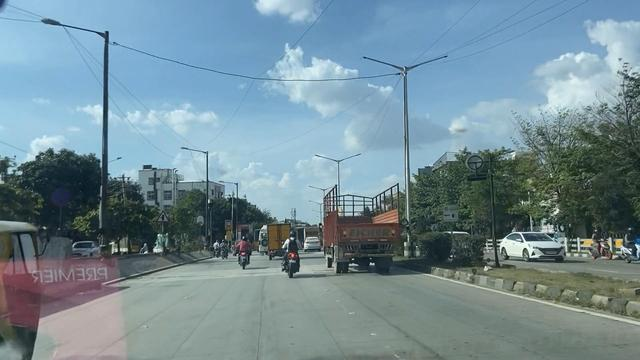HMV: (321, 183, 406, 268)
LMV: (284, 231, 304, 274), (233, 237, 252, 261)
